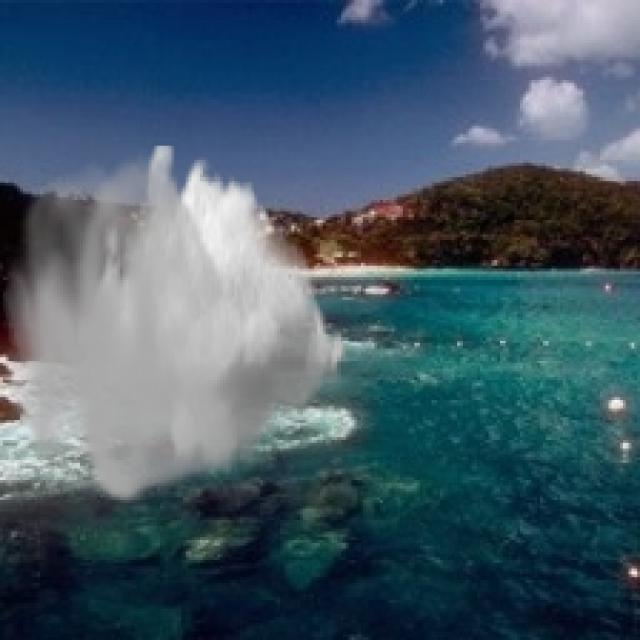Smoke: (2, 146, 348, 508)
